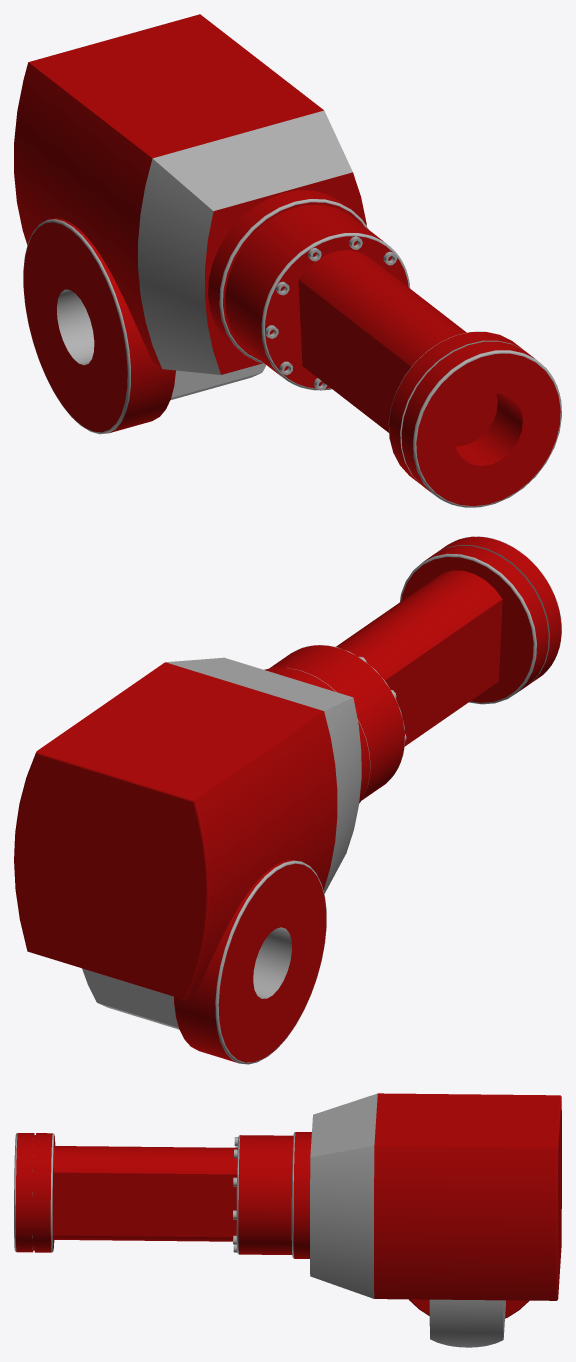
Rendered from Actuator_Hoursing.glb.
3 views of the same model, one above another, from view 1: azimuth 30°, elevation 25°; view 2: azimuth 150°, elevation 25°; view 3: azimuth 270°, elevation 25° (orthographic). The views are drawn at different scales.
Parts seen in each view (by area): view 1: Solid1.003; view 2: Solid1.003; view 3: Solid1.003.
Boxes of the visible parts, x1=… form: Solid1.003: x1=14, y1=14, x2=561, y2=507; Solid1.003: x1=14, y1=536, x2=561, y2=1064; Solid1.003: x1=14, y1=1093, x2=561, y2=1347.
Bounding box in the file's own units: 0.0951 × 0.1363 × 0.2978.
